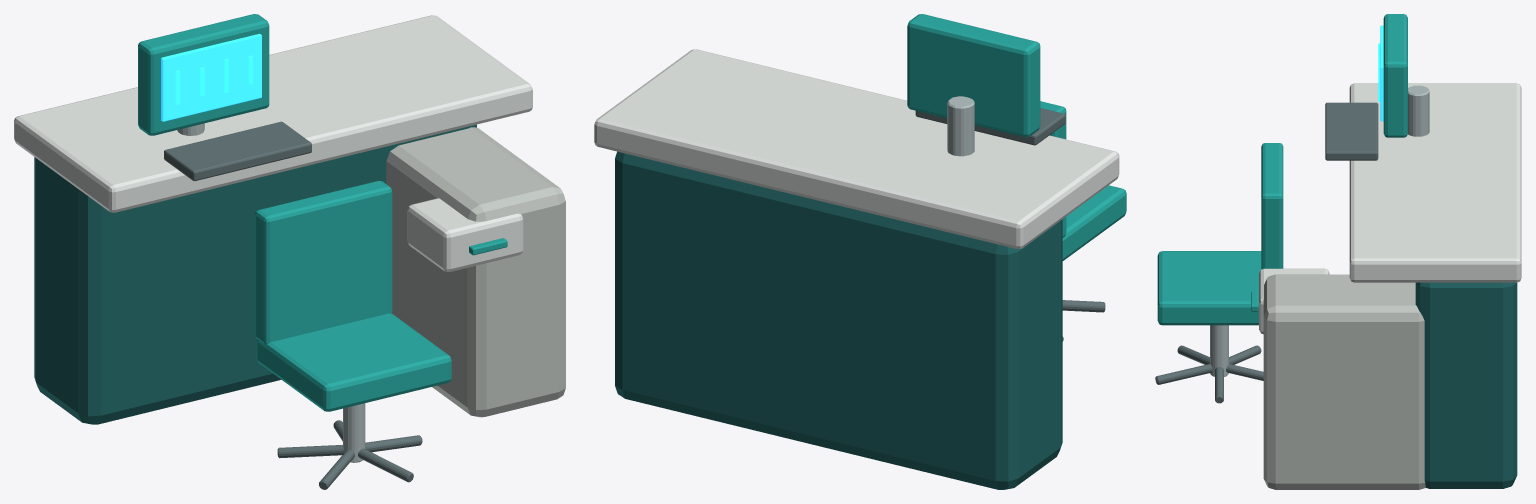
The model's file is MH20_Triage_Reception_Station.glb.
The picture shows the model from 3 angles, left to right: view 1: azimuth 30°, elevation 25°; view 2: azimuth 150°, elevation 25°; view 3: azimuth 270°, elevation 25°; orthographic projection. The views are drawn at different scales.
Parts seen in each view (by area): view 1: Desk_Front, Countertop, Desk_Return, Task_Chair_Back, Task_Chair_Seat, Triage_Display_Housing, Triage_Display_Display, Drawer, Keyboard, Chair_Column, Chair_Leg_03, Chair_Leg_05 (+1 smaller); view 2: Desk_Front, Countertop, Triage_Display_Housing, Task_Chair_Seat, Monitor_Stand, Keyboard; view 3: Desk_Return, Countertop, Desk_Front, Task_Chair_Seat, Keyboard, Triage_Display_Housing, Task_Chair_Back, Monitor_Stand, Chair_Column, Drawer, Chair_Leg_05.
Boxes of the visible parts, x1=… form: Desk_Front: x1=34, y1=124, x2=476, y2=424; Countertop: x1=14, y1=15, x2=532, y2=212; Desk_Return: x1=386, y1=127, x2=565, y2=417; Task_Chair_Back: x1=255, y1=180, x2=392, y2=344; Task_Chair_Seat: x1=256, y1=313, x2=451, y2=411; Triage_Display_Housing: x1=138, y1=14, x2=269, y2=135; Triage_Display_Display: x1=161, y1=33, x2=261, y2=121; Drawer: x1=407, y1=198, x2=523, y2=271; Keyboard: x1=164, y1=121, x2=311, y2=181; Chair_Column: x1=343, y1=403, x2=365, y2=462; Chair_Leg_03: x1=277, y1=445, x2=343, y2=458; Chair_Leg_05: x1=358, y1=448, x2=413, y2=482; Desk_Front: x1=615, y1=151, x2=1062, y2=489; Countertop: x1=594, y1=49, x2=1119, y2=248; Triage_Display_Housing: x1=907, y1=14, x2=1040, y2=137; Task_Chair_Seat: x1=1062, y1=185, x2=1126, y2=260; Monitor_Stand: x1=947, y1=96, x2=974, y2=156; Keyboard: x1=915, y1=108, x2=1065, y2=145; Desk_Return: x1=1263, y1=274, x2=1425, y2=489; Countertop: x1=1349, y1=83, x2=1521, y2=282; Desk_Front: x1=1415, y1=282, x2=1517, y2=488; Task_Chair_Seat: x1=1157, y1=251, x2=1261, y2=325; Keyboard: x1=1325, y1=102, x2=1378, y2=160; Triage_Display_Housing: x1=1383, y1=14, x2=1407, y2=137; Task_Chair_Back: x1=1261, y1=143, x2=1283, y2=269; Monitor_Stand: x1=1408, y1=85, x2=1429, y2=136; Chair_Column: x1=1210, y1=325, x2=1228, y2=376; Drawer: x1=1259, y1=268, x2=1329, y2=334; Chair_Leg_05: x1=1155, y1=364, x2=1212, y2=384.
Bounding box in the file's own units: 1.92 × 1.67 × 1.66.
